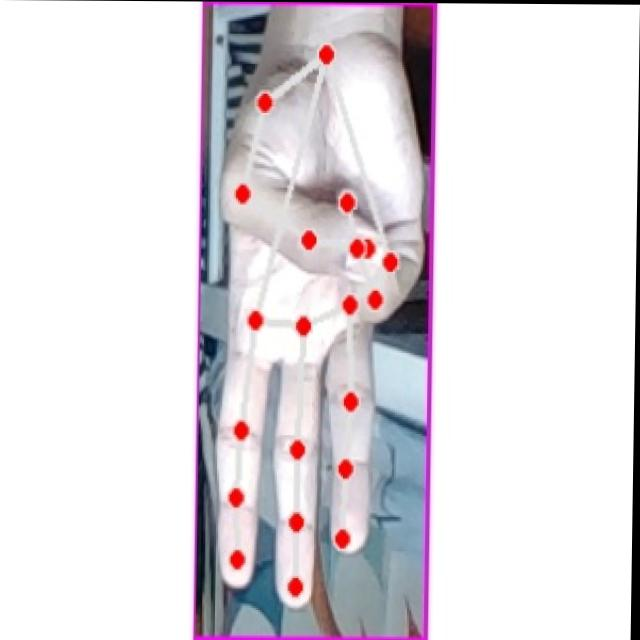W: (214, 44, 422, 607)
